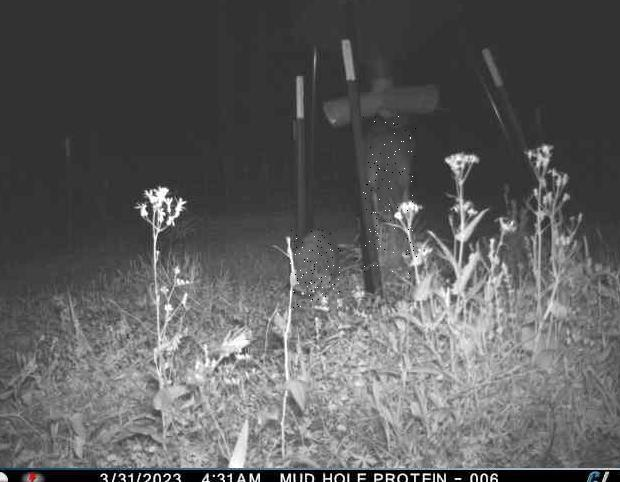Deer: (363, 117, 417, 276)
Raccoon: (291, 229, 342, 309)
